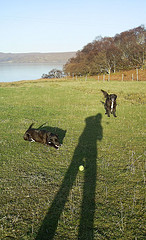tennis ball: (77, 165, 84, 171)
